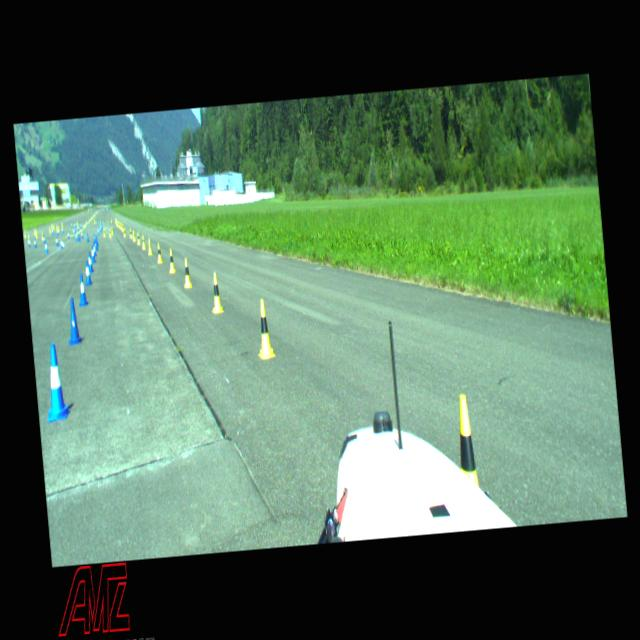blue_cone: (40, 342, 70, 422), (64, 297, 82, 344), (76, 272, 88, 305), (84, 260, 92, 284), (88, 252, 94, 272), (90, 244, 94, 262), (92, 242, 96, 256), (44, 240, 48, 252), (55, 237, 58, 246), (33, 238, 36, 246), (86, 234, 89, 241), (60, 240, 62, 248), (75, 232, 77, 240), (28, 239, 30, 246), (80, 231, 82, 238), (67, 231, 69, 238), (78, 234, 80, 240)
yellow_cone: (454, 394, 478, 488), (253, 298, 275, 358), (208, 272, 223, 312), (182, 257, 192, 288), (167, 248, 176, 272), (156, 243, 162, 263), (140, 234, 146, 249), (147, 238, 152, 255), (136, 232, 140, 244), (132, 230, 136, 240), (122, 228, 126, 236), (110, 226, 114, 234), (129, 228, 132, 238), (108, 228, 111, 237)
